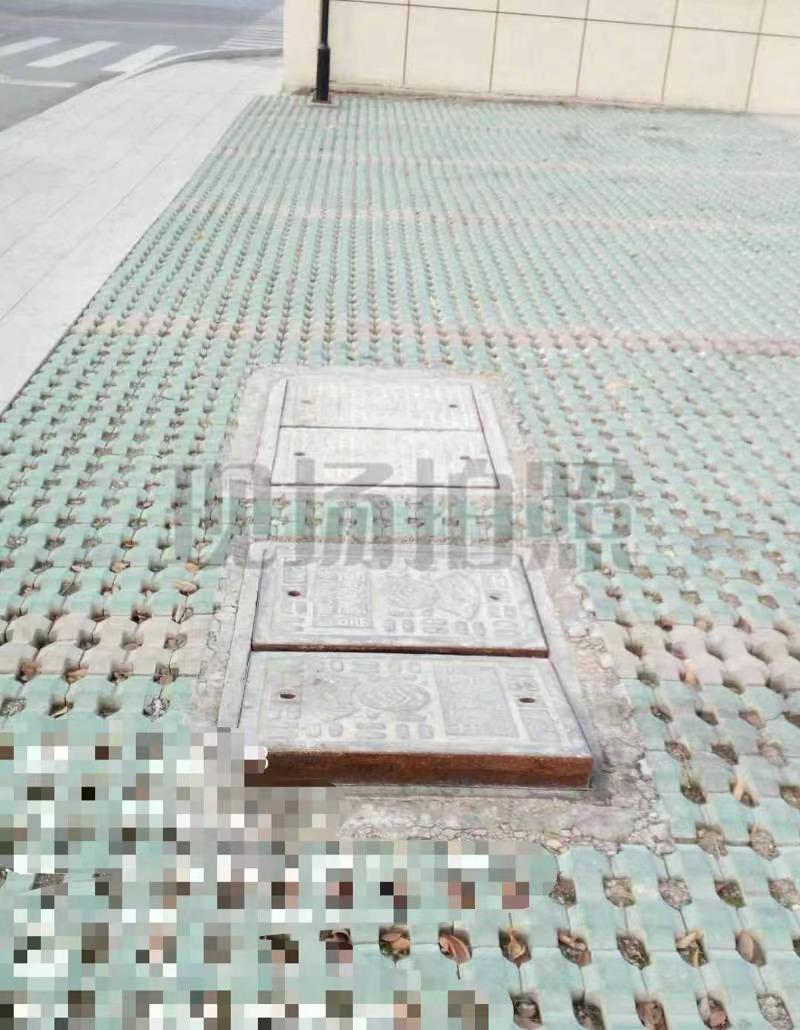wellcover: (132, 529, 646, 832), (189, 329, 560, 530)
